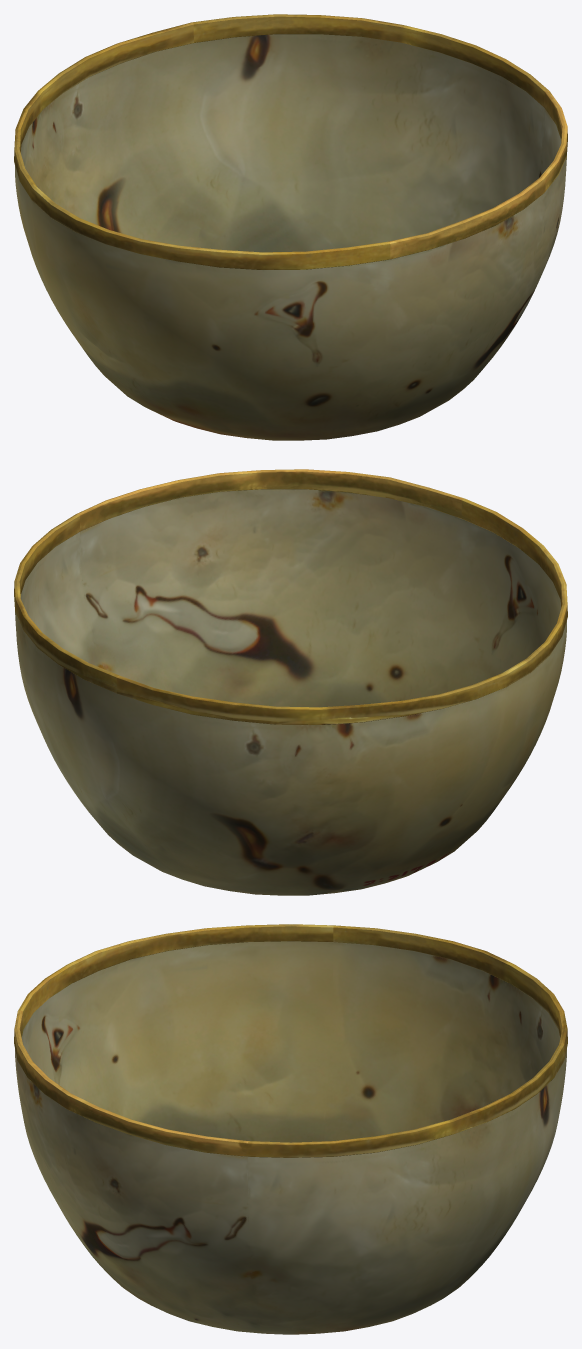
3 renders of one model, top to bottom at view 1: azimuth 30°, elevation 25°; view 2: azimuth 150°, elevation 25°; view 3: azimuth 270°, elevation 25°, orthographic.
Visible parts, largest first — view 1: YuWan_s; view 2: YuWan_s; view 3: YuWan_s.
Boxes of the visible parts, x1,y1,x2,y2 form: YuWan_s: (14,14,567,440); YuWan_s: (14,469,567,895); YuWan_s: (14,924,567,1334).
Bounding box in the file's own units: 121 × 58.15 × 121.
